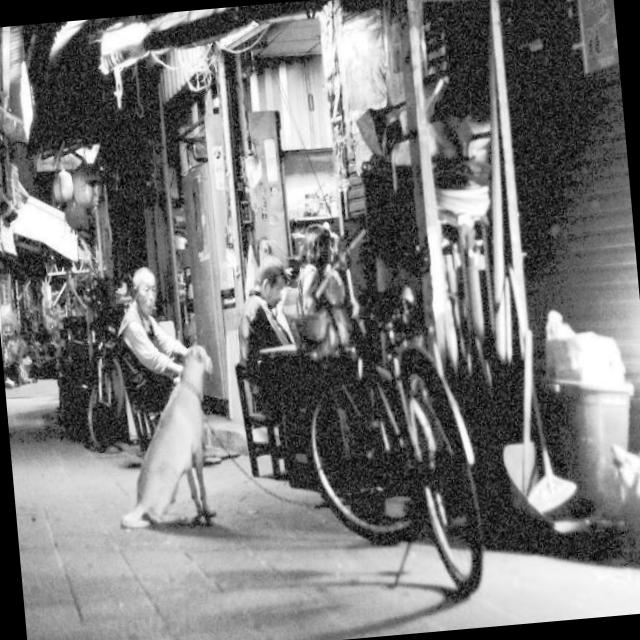Bicycle: (276, 251, 554, 630)
Dog: (99, 338, 246, 554)
Person: (228, 221, 300, 424), (105, 247, 188, 398)
